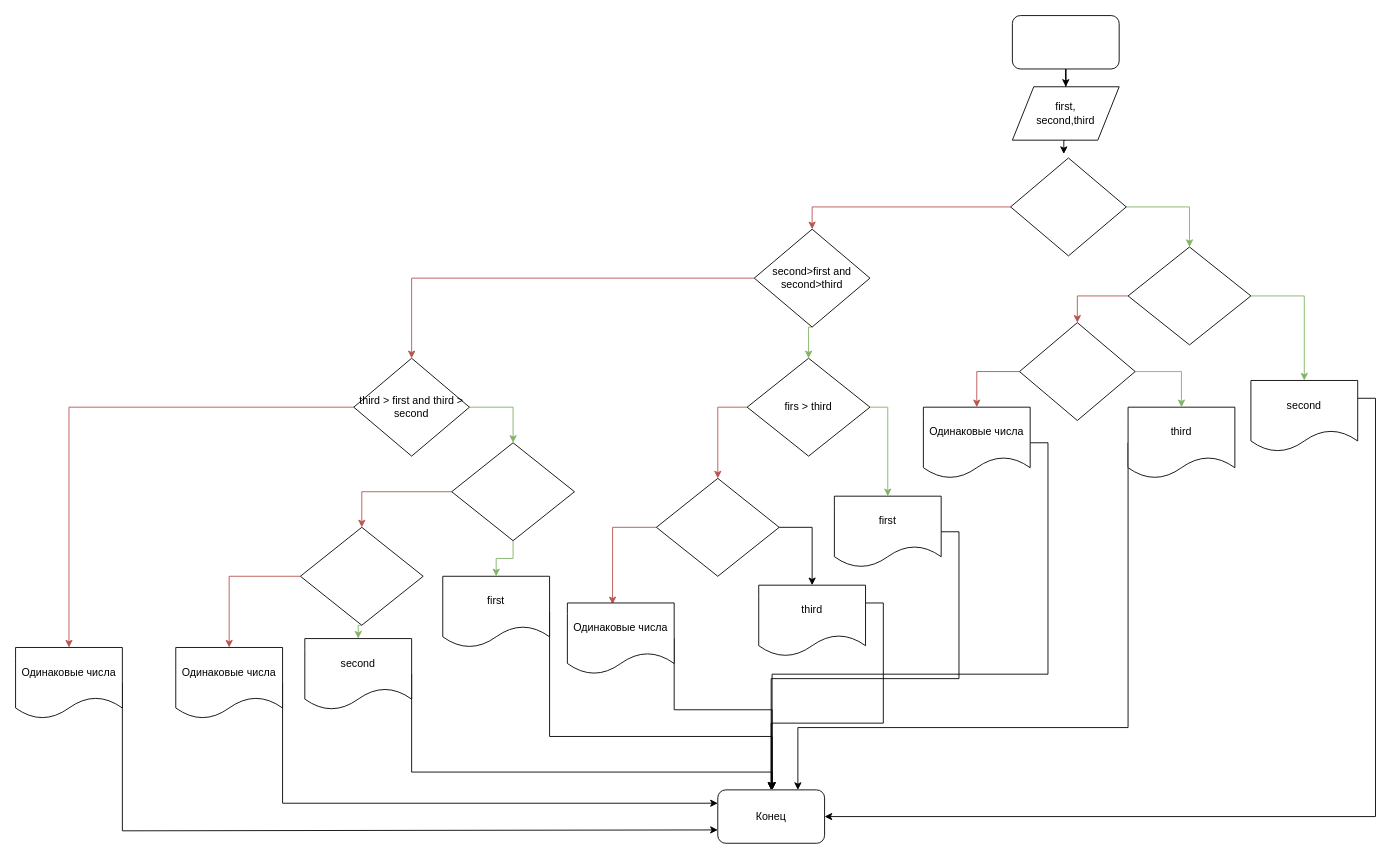
Some shapes in this 1398 by 859 pixel diagram are drawn without their labels. Each missing label, with the box of its shape:
firs > second: (451, 442, 574, 541)
first>second and first>third: (1010, 157, 1126, 256)
second >first: (299, 526, 423, 625)
second >third: (1127, 246, 1251, 345)
third > second: (655, 477, 779, 576)
third>second: (1019, 322, 1135, 421)
Начало: (1011, 15, 1119, 69)
